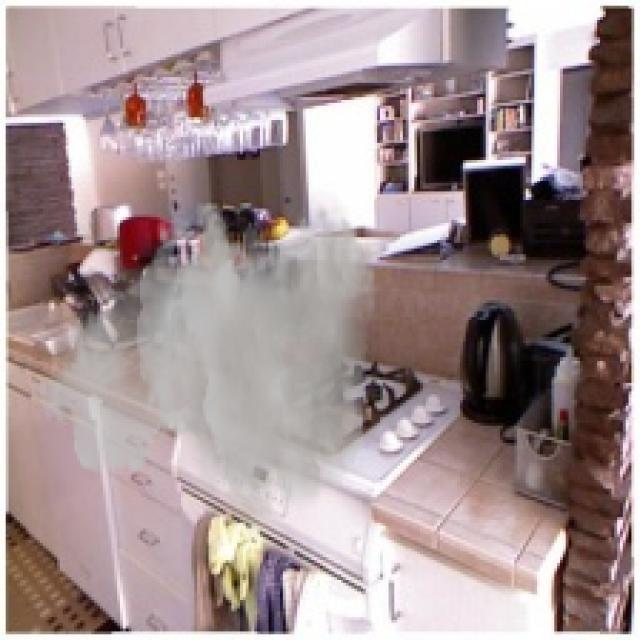Smoke: (29, 200, 378, 549)
